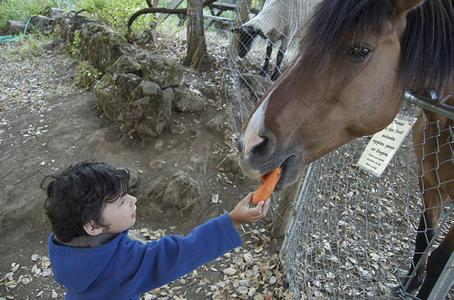person: (41, 162, 271, 300)
